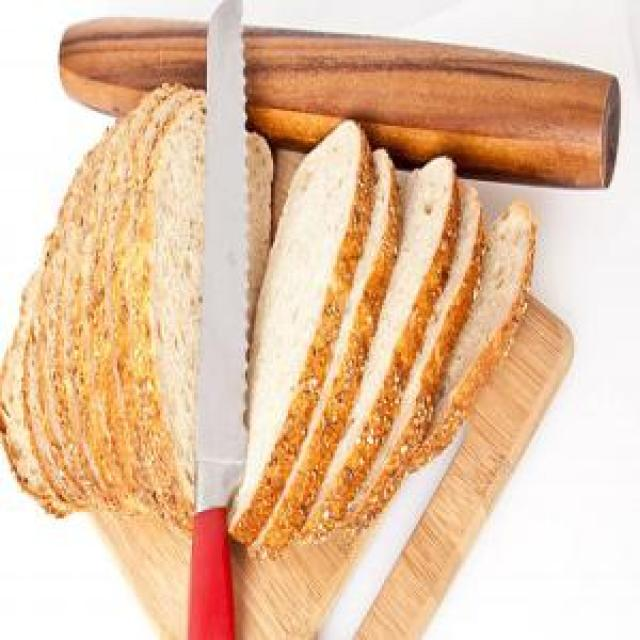knife: (166, 0, 248, 638)
